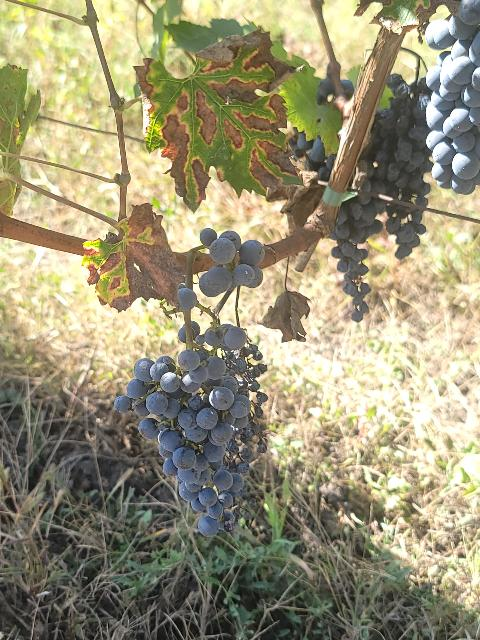grapes: (114, 325, 268, 536), (425, 0, 480, 195), (365, 74, 431, 206), (331, 179, 382, 322), (370, 198, 425, 260)
